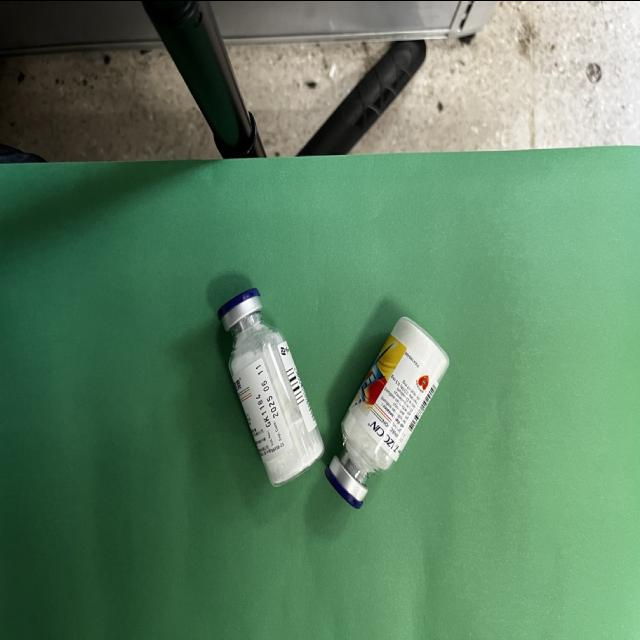Vials: (325, 317, 448, 507), (218, 287, 324, 484)
